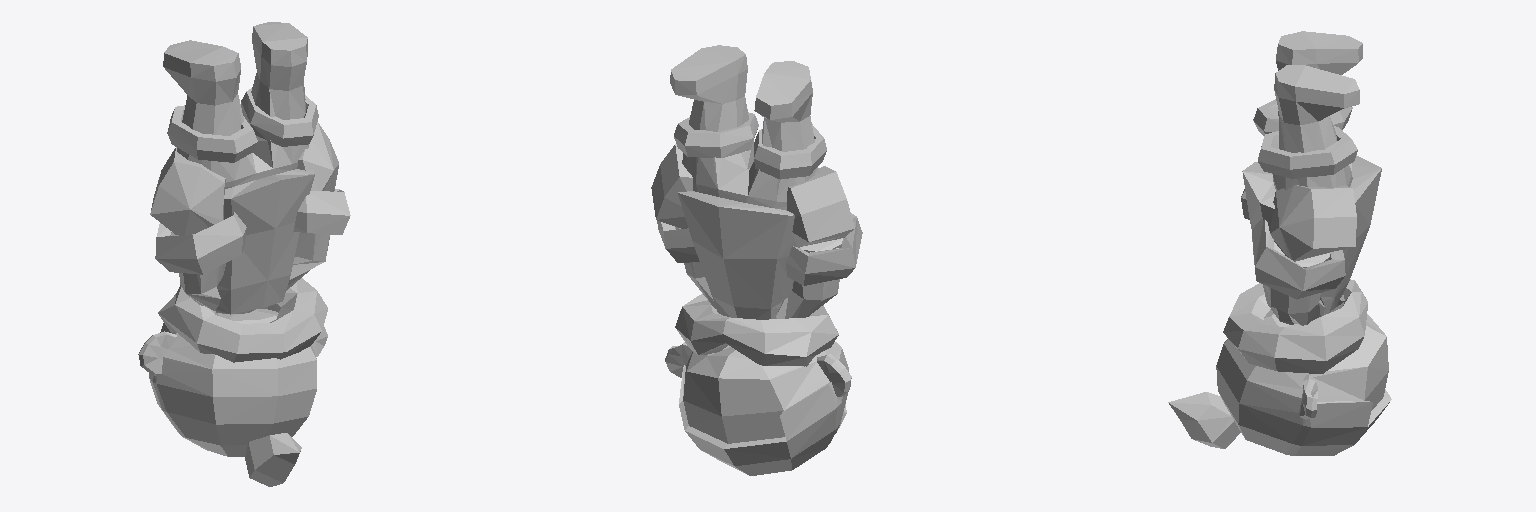
File: eikastanding_000204.obj
3 renders of one model, left to right at view 1: azimuth 30°, elevation 25°; view 2: azimuth 150°, elevation 25°; view 3: azimuth 270°, elevation 25°, orthographic.
Visible parts, largest first — view 1: Cylinder; view 2: Cylinder; view 3: Cylinder.
Part boxes in pixels (bbox=[...]): Cylinder: bbox=[138, 22, 350, 486]; Cylinder: bbox=[651, 45, 862, 475]; Cylinder: bbox=[1168, 31, 1391, 455].
Bounding box in the file's own units: 26.67 × 51.12 × 25.85.